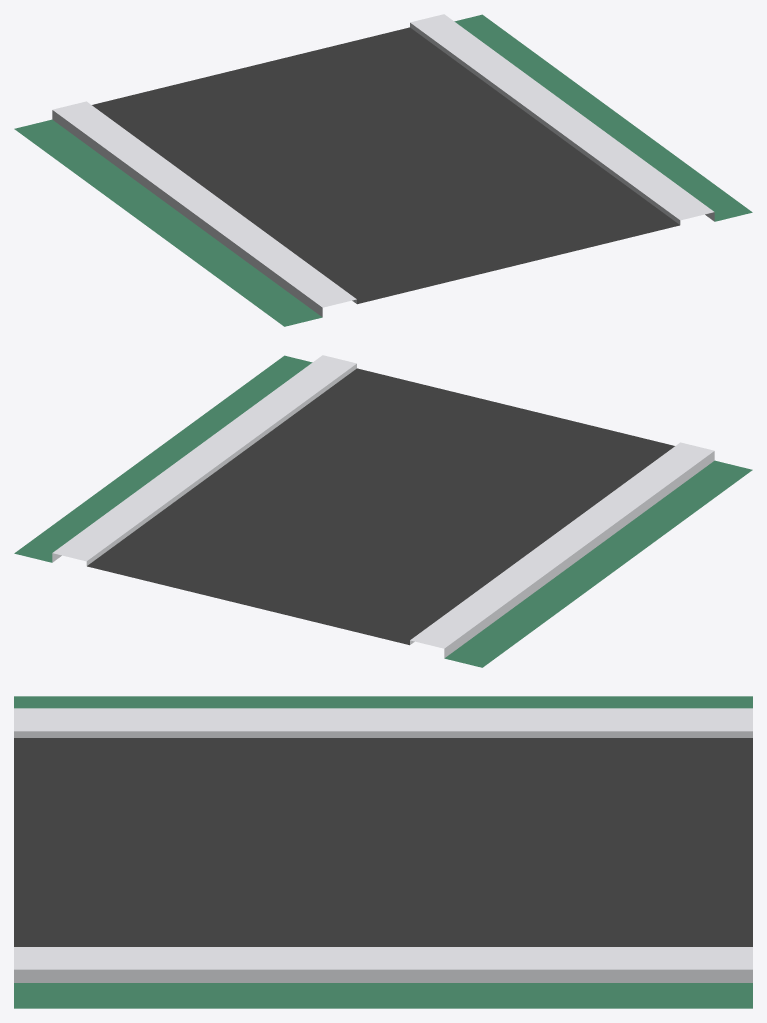
The model's file is road.obj.
The picture shows the model from 3 angles, top to bottom: view 1: azimuth 30°, elevation 25°; view 2: azimuth 150°, elevation 25°; view 3: azimuth 270°, elevation 25°; orthographic projection. The views are drawn at different scales.
Parts seen in each view (by area): view 1: roadStraight; view 2: roadStraight; view 3: roadStraight.
Part boxes in pixels (<box>): roadStraight: <box>14,14,752,326</box>; roadStraight: <box>14,355,752,667</box>; roadStraight: <box>14,696,752,1008</box>.
Bounding box in the file's own units: 1 × 0.02 × 1.
